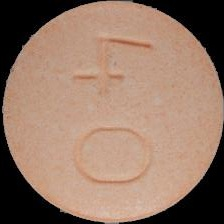52125-350: (0, 0, 224, 224)
